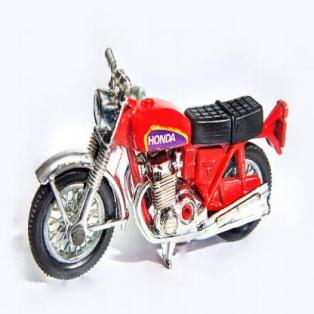Motocicleta: (26, 39, 293, 280)
